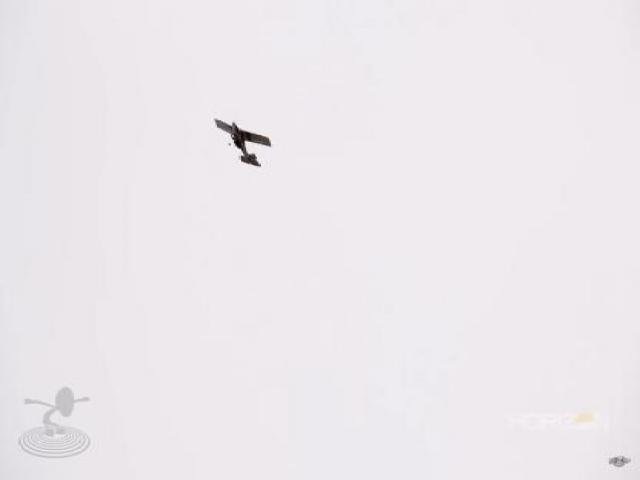uav: (212, 114, 272, 171)
